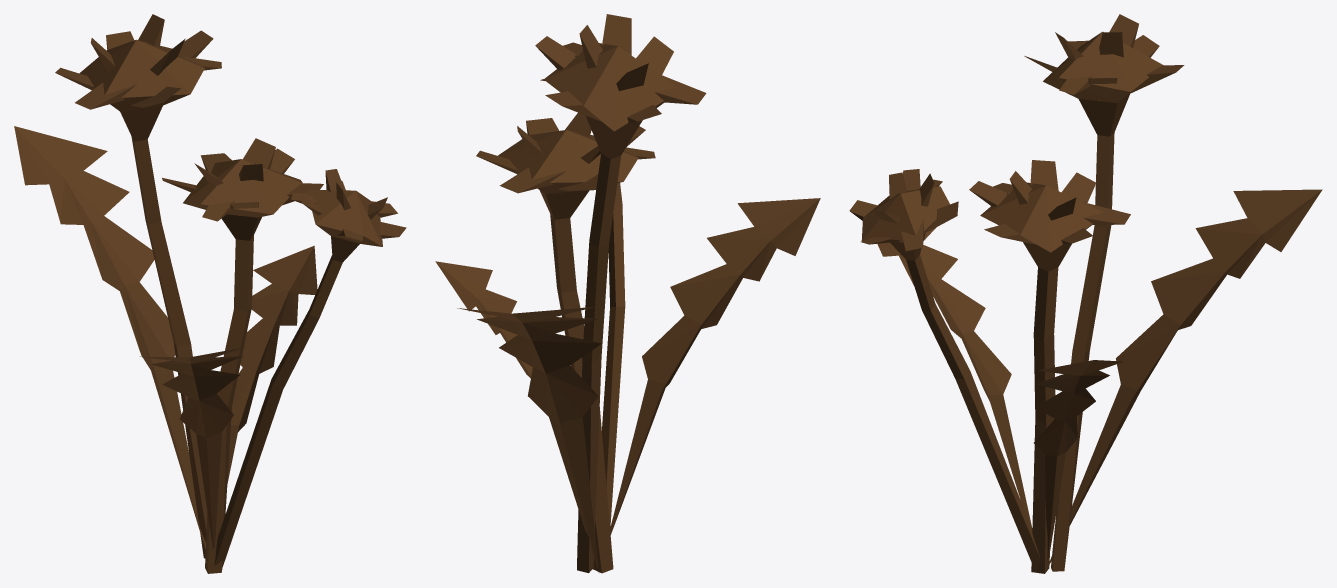
The model's file is SM_Flower_Dandelion_Mature_A.fbx.
3 views of the same model, side by side, from view 1: azimuth 30°, elevation 25°; view 2: azimuth 150°, elevation 25°; view 3: azimuth 270°, elevation 25° (orthographic). The views are drawn at different scales.
Parts seen in each view (by area): view 1: flower-dandelion-mature-a; view 2: flower-dandelion-mature-a; view 3: flower-dandelion-mature-a.
Part boxes in pixels (left/top/right/bottom): flower-dandelion-mature-a: left=14, top=14, right=406, bottom=573; flower-dandelion-mature-a: left=435, top=14, right=820, bottom=573; flower-dandelion-mature-a: left=849, top=14, right=1322, bottom=573.
Size of the model in its own units: 0.3032 by 0.6083 by 0.4901.
